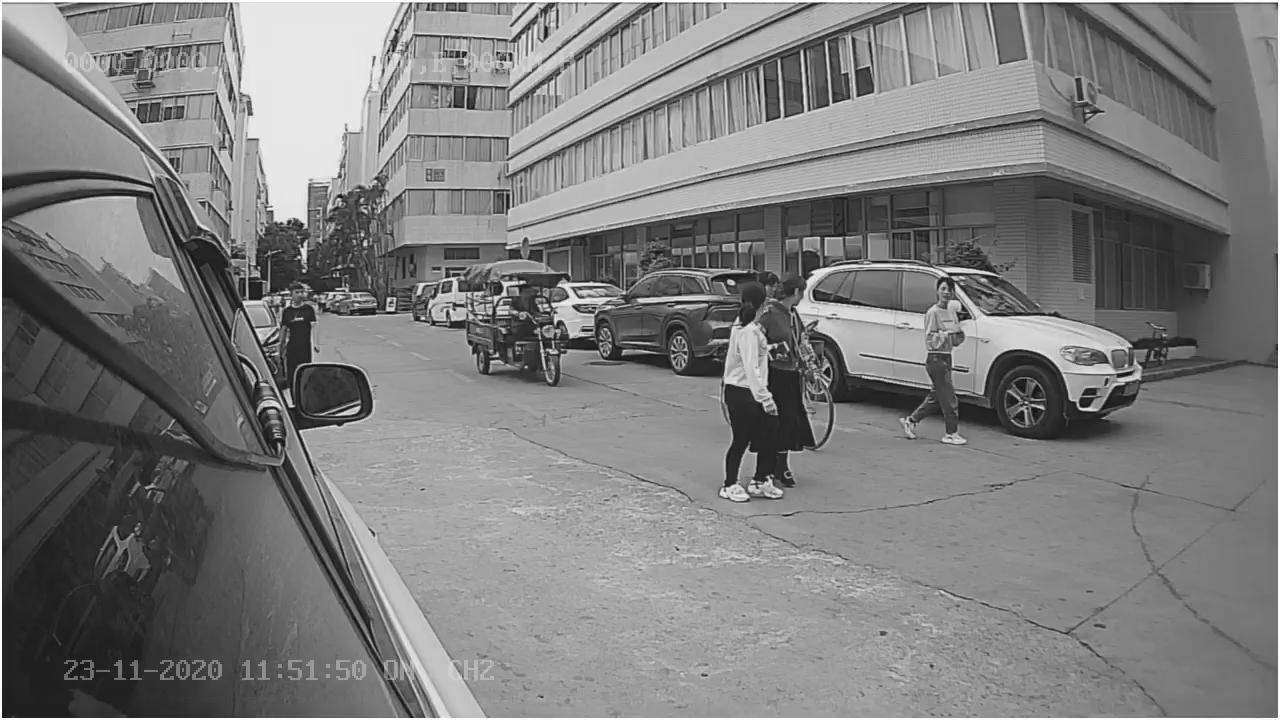person: (703, 278, 784, 507), (894, 260, 979, 446)
